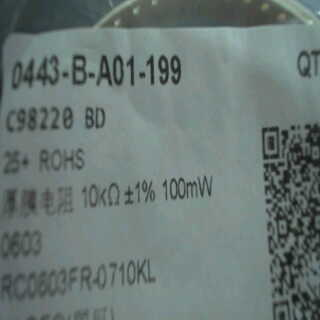10kR: (78, 178, 120, 213)
